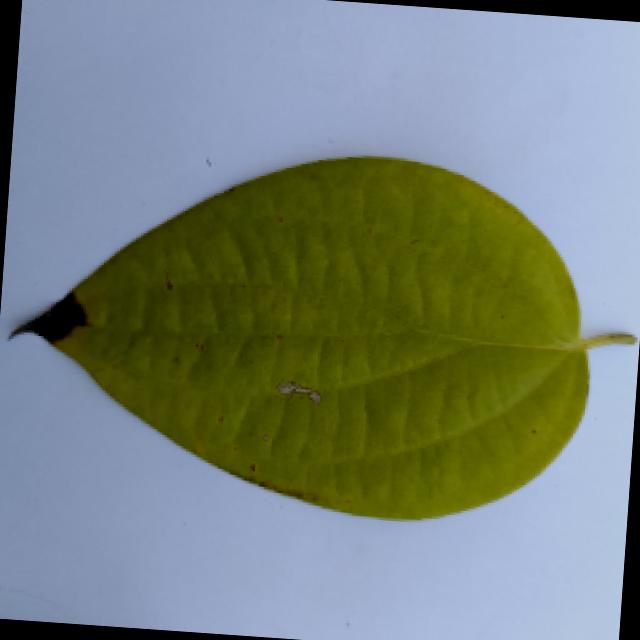slow-decline: (2, 119, 640, 541)
